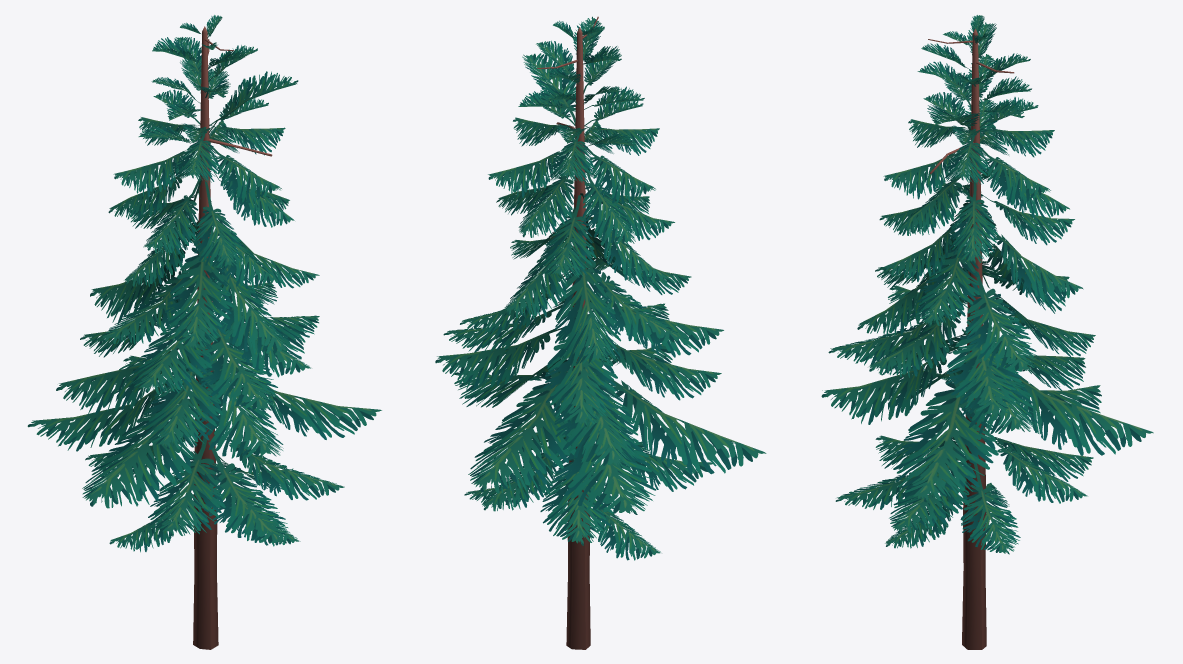
Rendered from Pine_Tree_1G.fbx.
The picture shows the model from 3 angles, left to right: view 1: azimuth 30°, elevation 25°; view 2: azimuth 150°, elevation 25°; view 3: azimuth 270°, elevation 25°; orthographic projection.
Parts seen in each view (by area): view 1: Pine_Tree_1G; view 2: Pine_Tree_1G; view 3: Pine_Tree_1G.
Part boxes in pixels (left/top/right/bottom): Pine_Tree_1G: left=27, top=15, right=381, bottom=649; Pine_Tree_1G: left=435, top=16, right=766, bottom=649; Pine_Tree_1G: left=821, top=15, right=1153, bottom=649.
Bounding box in the file's own units: 366 × 668 × 350.
